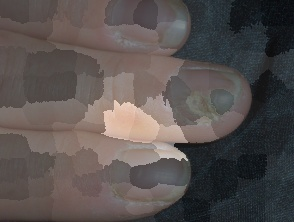Nail_psoriasis: (149, 48, 253, 141), (95, 138, 194, 222), (97, 0, 191, 54)
